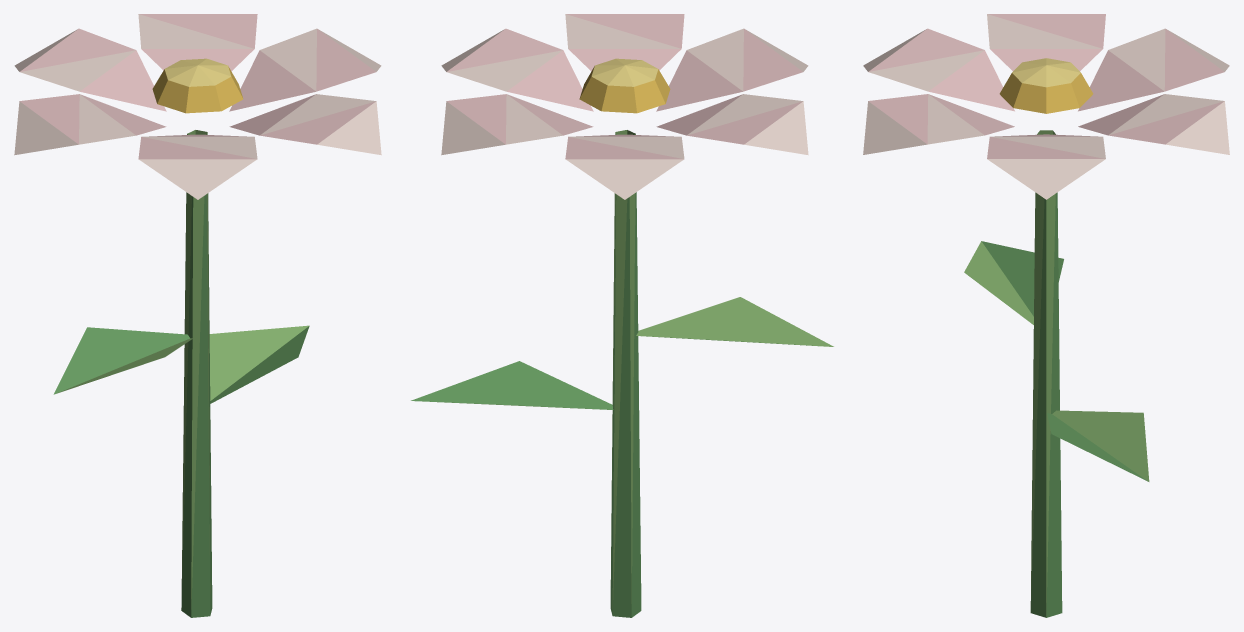
The model's file is meadow-flowers.glb.
The picture shows the model from 3 angles, left to right: view 1: azimuth 30°, elevation 25°; view 2: azimuth 150°, elevation 25°; view 3: azimuth 270°, elevation 25°; orthographic projection.
Parts seen in each view (by area): view 1: MeadowFlower; view 2: MeadowFlower; view 3: MeadowFlower.
Boxes of the visible parts, x1,y1,x2,y2 form: MeadowFlower: (14,14,381,617); MeadowFlower: (411,14,833,617); MeadowFlower: (863,14,1229,617).
Size of the model in its own units: 0.306 by 0.435 by 0.265.
